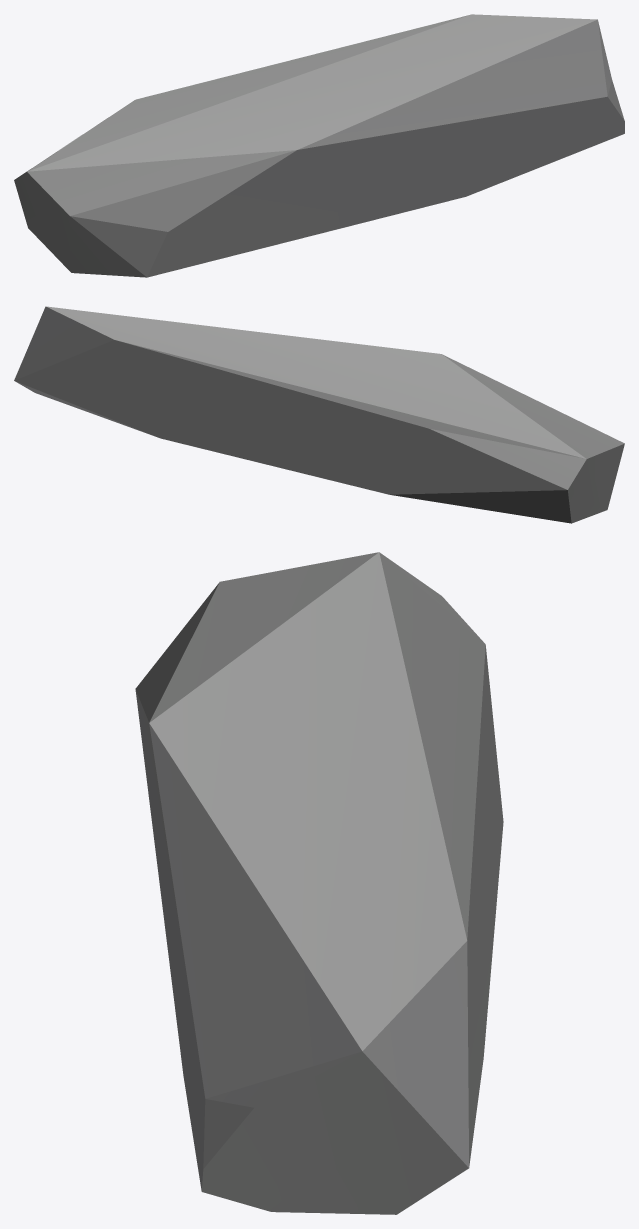
File: stones6.fbx
The picture shows the model from 3 angles, top to bottom: view 1: azimuth 30°, elevation 25°; view 2: azimuth 150°, elevation 25°; view 3: azimuth 270°, elevation 25°; orthographic projection. The views are drawn at different scales.
Parts seen in each view (by area): view 1: stones6; view 2: stones6; view 3: stones6.
Boxes of the visible parts, bbox=[...] form: stones6: bbox=[14, 14, 624, 277]; stones6: bbox=[14, 306, 624, 523]; stones6: bbox=[135, 552, 503, 1214].
Size of the model in its own units: 24.66 by 4.49 by 7.14.
